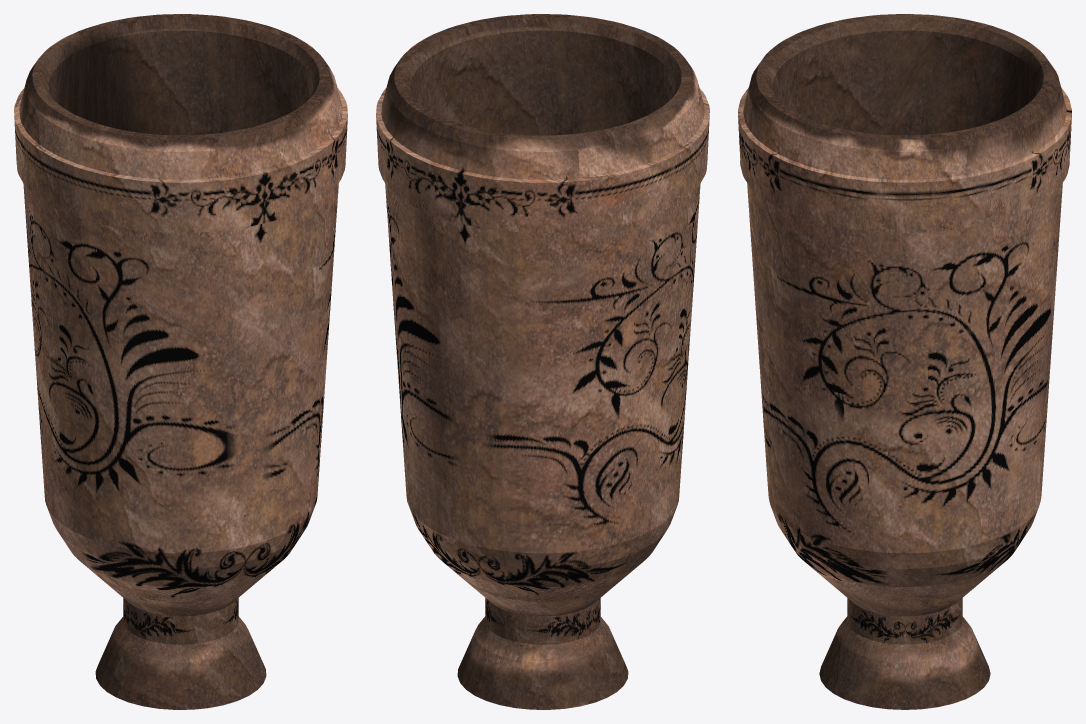
File: Jarron 3.5.fbx
The picture shows the model from 3 angles, left to right: view 1: azimuth 30°, elevation 25°; view 2: azimuth 150°, elevation 25°; view 3: azimuth 270°, elevation 25°; orthographic projection.
Visible parts, largest first — view 1: Cylinder; view 2: Cylinder; view 3: Cylinder.
Part boxes in pixels (bbox=[...]): Cylinder: bbox=[14, 14, 347, 709]; Cylinder: bbox=[376, 14, 709, 709]; Cylinder: bbox=[738, 14, 1071, 709].
Bounding box in the file's own units: 244 × 481 × 244.
